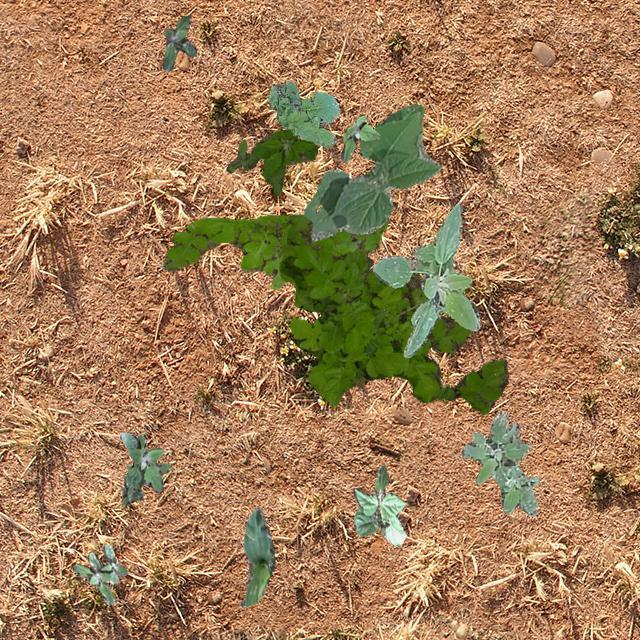crop: (302, 103, 438, 240), (352, 464, 406, 544), (240, 506, 274, 606)
weed: (278, 212, 508, 414), (162, 214, 386, 288), (372, 202, 478, 356), (462, 410, 538, 514), (226, 128, 316, 194), (266, 80, 338, 146), (118, 432, 170, 504), (72, 544, 128, 604), (160, 15, 196, 70), (339, 114, 378, 160)
